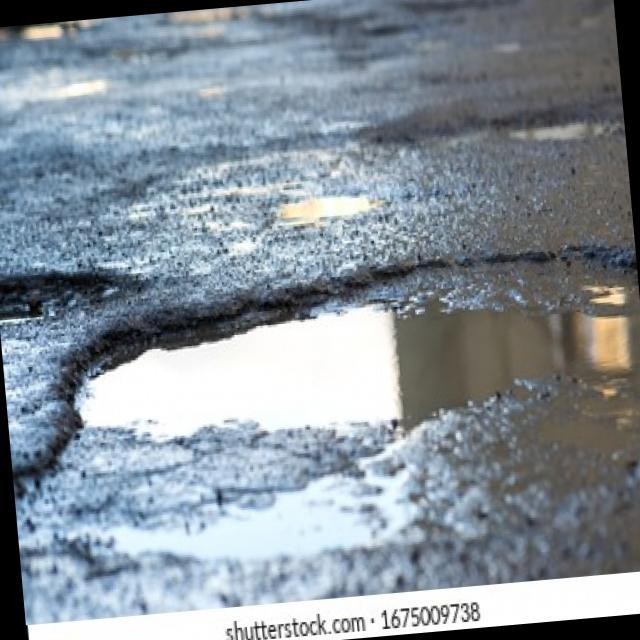Pothole: (51, 236, 640, 466), (0, 250, 159, 324), (493, 106, 625, 148)
